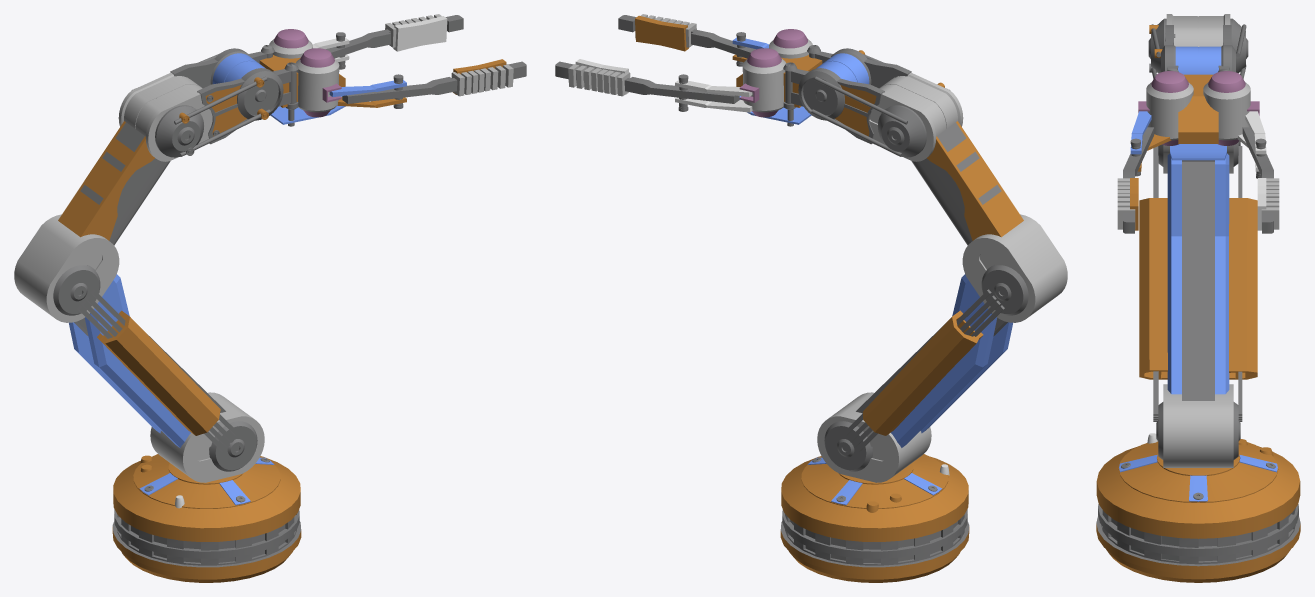
File: manipulator color.fbx
3 views of the same model, side by side, from view 1: azimuth 30°, elevation 25°; view 2: azimuth 150°, elevation 25°; view 3: azimuth 270°, elevation 25° (orthographic). The views are drawn at different scales.
Parts seen in each view (by area): view 1: bone 1, bone 3, bone 5, bone 7 right, bone 4, bone 2, bone 7 left, bone 6; view 2: bone 1, bone 3, bone 5, bone 7 left, bone 4, bone 2, bone 7 right, bone 6; view 3: bone 3, bone 1, bone 2, bone 5, bone 7 left, bone 7 right, bone 6.
Boxes of the visible parts, box(x1,y1,x2,y2) form: bone 1: box(112, 454, 301, 582); bone 3: box(14, 214, 239, 452); bone 5: box(118, 48, 283, 161); bone 7 right: box(296, 48, 526, 117); bone 4: box(58, 98, 170, 245); bone 2: box(150, 392, 264, 482); bone 7 left: box(269, 14, 463, 69); bone 6: box(249, 45, 345, 126); bone 1: box(780, 454, 969, 582); bone 3: box(843, 214, 1067, 451); bone 5: box(798, 48, 963, 161); bone 7 left: box(555, 48, 785, 117); bone 4: box(911, 98, 1023, 245); bone 2: box(817, 392, 931, 482); bone 7 right: box(618, 14, 812, 66); bone 6: box(736, 45, 832, 126); bone 3: box(1139, 141, 1257, 421); bone 1: box(1096, 433, 1300, 582); bone 2: box(1156, 384, 1240, 467); bone 5: box(1148, 14, 1248, 78); bone 7 left: box(1203, 71, 1279, 233); bone 7 right: box(1117, 71, 1193, 233); bone 6: box(1167, 65, 1229, 160).
Bounding box in the file's own units: 2.38 × 2.37 × 0.8431.
